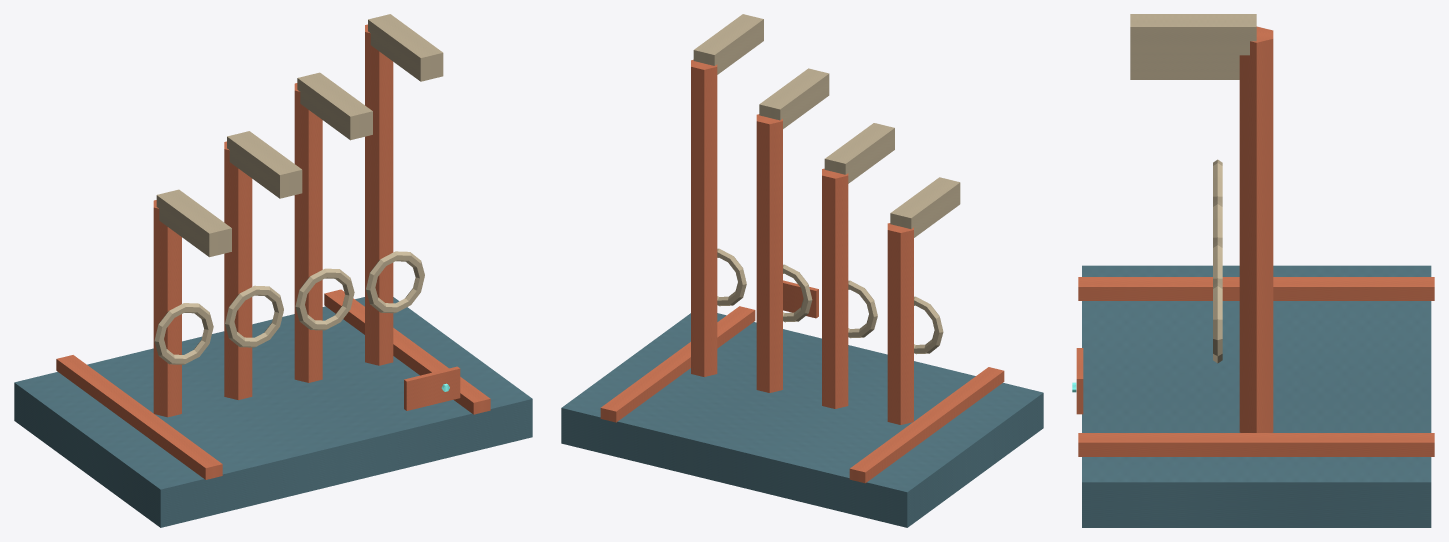
File: atlas100-s050-a03.lod1.glb
3 renders of one model, left to right at view 1: azimuth 30°, elevation 25°; view 2: azimuth 150°, elevation 25°; view 3: azimuth 270°, elevation 25°, orthographic. The views are drawn at different scales.
Visible parts, largest first — view 1: atlas100-s050-a03:part-000, atlas100-s050-a03:part-012, atlas100-s050-a03:part-009, atlas100-s050-a03:part-006, atlas100-s050-a03:part-003, atlas100-s050-a03:part-001, atlas100-s050-a03:part-008, atlas100-s050-a03:part-014, atlas100-s050-a03:part-011, atlas100-s050-a03:part-005, atlas100-s050-a03:part-002, atlas100-s050-a03:part-015 (+4 smaller); view 2: atlas100-s050-a03:part-000, atlas100-s050-a03:part-012, atlas100-s050-a03:part-009, atlas100-s050-a03:part-006, atlas100-s050-a03:part-003, atlas100-s050-a03:part-001, atlas100-s050-a03:part-002, atlas100-s050-a03:part-011, atlas100-s050-a03:part-008, atlas100-s050-a03:part-014, atlas100-s050-a03:part-005, atlas100-s050-a03:part-015 (+4 smaller); view 3: atlas100-s050-a03:part-000, atlas100-s050-a03:part-012, atlas100-s050-a03:part-002, atlas100-s050-a03:part-001, atlas100-s050-a03:part-014, atlas100-s050-a03:part-005, atlas100-s050-a03:part-008, atlas100-s050-a03:part-011, atlas100-s050-a03:part-013, atlas100-s050-a03:part-015.
Part boxes in pixels (x1,y1,x2,y2): atlas100-s050-a03:part-000: (14,297,532,527); atlas100-s050-a03:part-012: (365,24,393,365); atlas100-s050-a03:part-009: (294,83,322,382); atlas100-s050-a03:part-006: (224,141,252,399); atlas100-s050-a03:part-003: (153,200,181,417); atlas100-s050-a03:part-001: (56,355,222,479); atlas100-s050-a03:part-008: (227,131,302,198); atlas100-s050-a03:part-014: (368,14,443,81); atlas100-s050-a03:part-011: (297,72,372,140); atlas100-s050-a03:part-005: (156,189,231,257); atlas100-s050-a03:part-002: (324,289,490,414); atlas100-s050-a03:part-015: (404,366,460,410); atlas100-s050-a03:part-000: (561,313,1043,527); atlas100-s050-a03:part-012: (691,59,717,376); atlas100-s050-a03:part-009: (756,114,782,392); atlas100-s050-a03:part-006: (822,168,848,408); atlas100-s050-a03:part-003: (887,223,913,424); atlas100-s050-a03:part-001: (849,367,1004,483); atlas100-s050-a03:part-002: (600,306,755,422); atlas100-s050-a03:part-011: (759,68,829,128); atlas100-s050-a03:part-008: (824,123,894,183); atlas100-s050-a03:part-014: (693,14,763,74); atlas100-s050-a03:part-005: (890,177,960,237); atlas100-s050-a03:part-015: (783,280,818,318); atlas100-s050-a03:part-000: (1082,265,1431,527); atlas100-s050-a03:part-012: (1239,26,1273,432); atlas100-s050-a03:part-002: (1078,433,1434,456); atlas100-s050-a03:part-001: (1078,277,1434,300); atlas100-s050-a03:part-014: (1130,14,1256,55); atlas100-s050-a03:part-005: (1130,71,1239,79); atlas100-s050-a03:part-008: (1130,63,1239,71); atlas100-s050-a03:part-011: (1130,55,1239,63); atlas100-s050-a03:part-013: (1213,282,1222,363); atlas100-s050-a03:part-015: (1076,348,1083,414).
Size of the model in its own units: 2.64 by 2.62 by 1.87.
4 materials, 4 textured.
